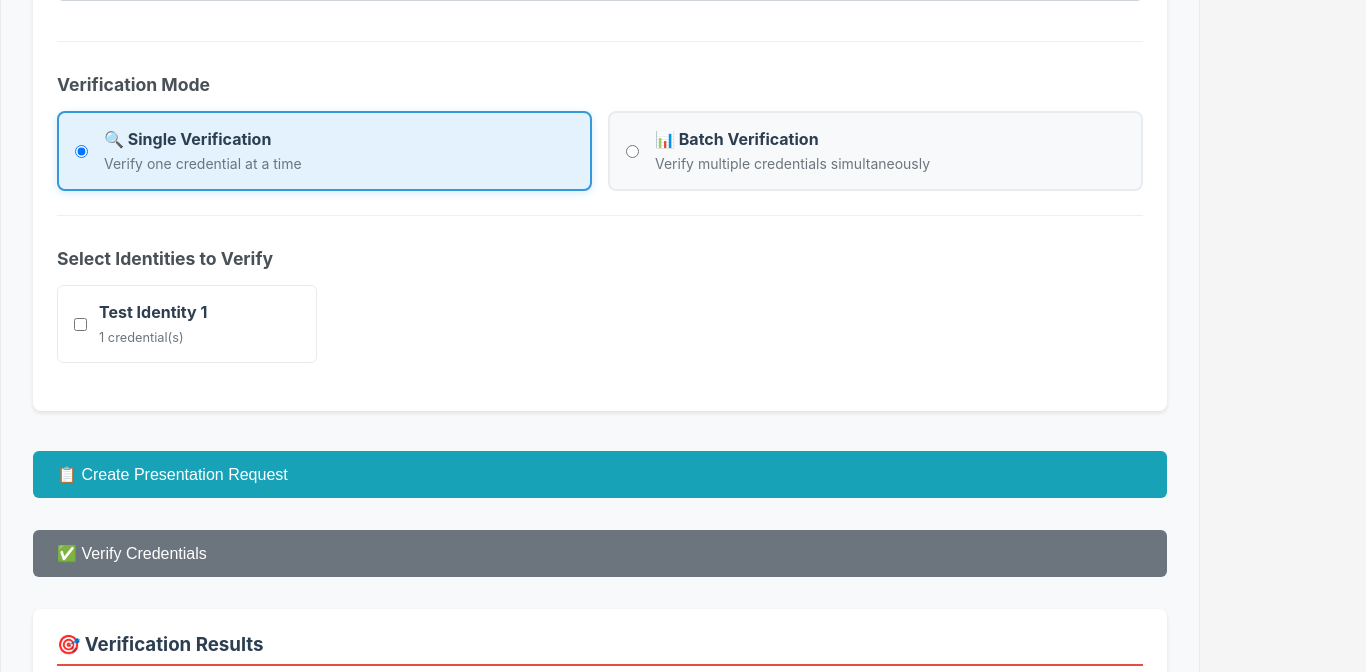
it: ServiceProvider › should show available attributes when identity is selected
The image size is (1366, 672).
(page scrolled)
// Select an identity
Click the checkbox labelled "Test Identity 1 1 credential(s)". click: (80, 324)
box: [74,318,87,330]
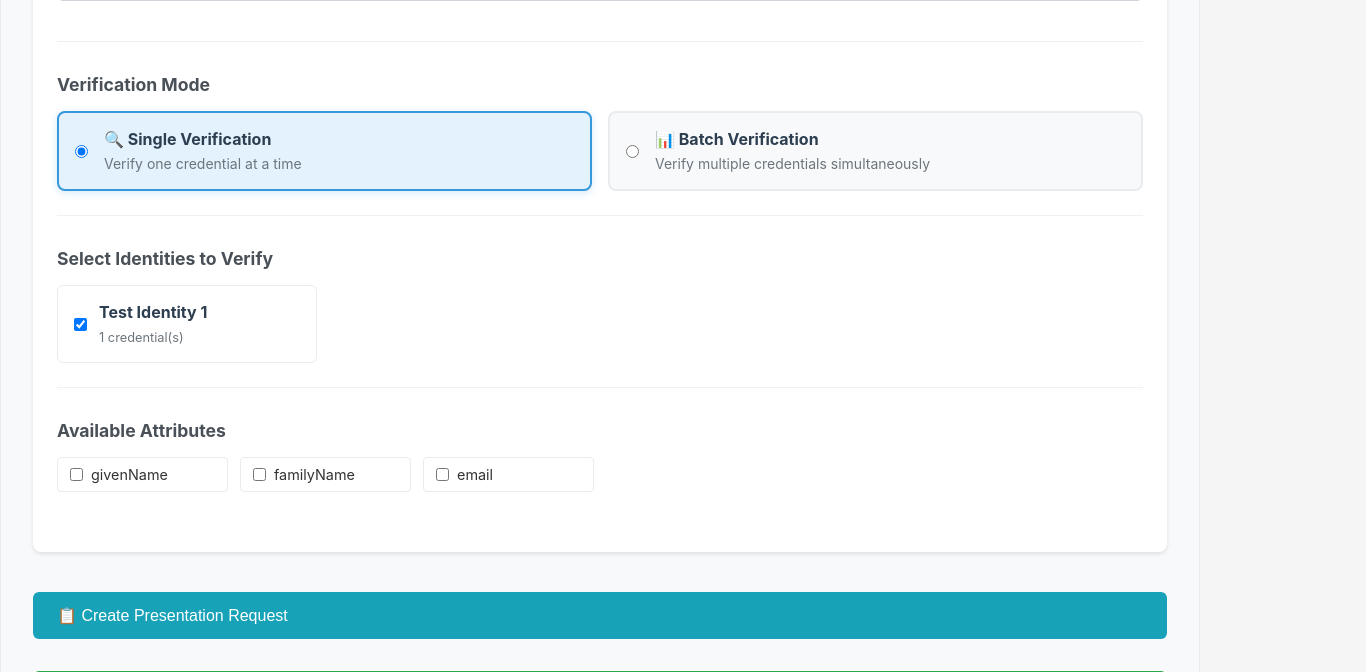
Result: the heading "Available Attributes" is shown at [57,420,226,441]
Result: the text "givenName" is shown at [91,466,168,483]
Result: the text "familyName" is shown at [274,466,355,483]
